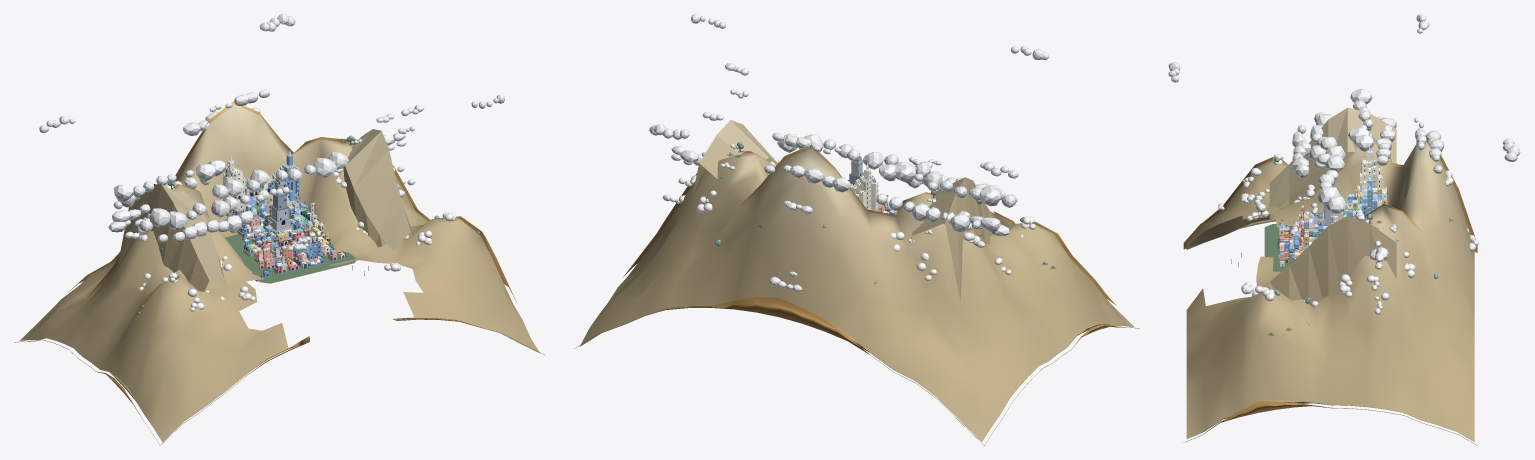
Rendered from candidate.glb.
The picture shows the model from 3 angles, left to right: view 1: azimuth 30°, elevation 25°; view 2: azimuth 150°, elevation 25°; view 3: azimuth 270°, elevation 25°; orthographic projection. The views are drawn at different scales.
Parts seen in each view (by area): view 1: citadel-oskar-grid-mountain-surface, highland-ravine-wall-east, highland-ravine-wall-west, backlit-highlight-citadel-oskar-grid-mountain-surface, town-terrace-0-level-0, highland-hero-cloud-blob-cap, highland-hero-cloud-blob-windward:3, highland-town-foundation-platform, town-terrace-0-level-2, town-terrace-0-level-1, town-terrace-0-level-3, highland-hero-cloud-blob-windward:0 (+1 smaller); view 2: citadel-oskar-grid-mountain-surface, backlit-highlight-citadel-oskar-grid-mountain-surface, highland-ravine-wall-west, highland-ravine-wall-east, highland-hero-cloud-blob-windward:0, highland-hero-cloud-blob-cap, highland-hero-cloud-blob-windward:1, highland-hero-cloud-blob-ridge:0:3, highland-hero-cloud-blob-windward:3; view 3: citadel-oskar-grid-mountain-surface, highland-ravine-wall-east, highland-ravine-wall-west, backlit-highlight-citadel-oskar-grid-mountain-surface, highland-hero-cloud-blob-cap, highland-hero-cloud-blob-windward:0, town-terrace-0-level-3, highland-hero-cloud-blob-windward:2, highland-town-foundation-platform, highland-hero-cloud-blob-windward:1, highland-hero-cloud-blob-windward:3, town-terrace-0-level-2 (+5 smaller).
Boxes of the visible parts, x1,y1,x2,y2 form: citadel-oskar-grid-mountain-surface: (20, 104, 539, 441); highland-ravine-wall-east: (343, 129, 415, 251); highland-ravine-wall-west: (117, 184, 227, 291); backlit-highlight-citadel-oskar-grid-mountain-surface: (14, 101, 545, 445); town-terrace-0-level-0: (226, 186, 345, 277); highland-hero-cloud-blob-cap: (212, 152, 348, 198); highland-hero-cloud-blob-windward:3: (139, 194, 250, 232); highland-town-foundation-platform: (225, 234, 356, 283); town-terrace-0-level-2: (225, 182, 324, 259); town-terrace-0-level-1: (223, 185, 336, 270); town-terrace-0-level-3: (226, 175, 324, 255); highland-hero-cloud-blob-windward:0: (114, 160, 225, 201); citadel-oskar-grid-mountain-surface: (579, 148, 1133, 441); backlit-highlight-citadel-oskar-grid-mountain-surface: (574, 144, 1139, 445); highland-ravine-wall-west: (911, 177, 994, 301); highland-ravine-wall-east: (692, 120, 777, 194); highland-hero-cloud-blob-windward:0: (879, 164, 1001, 206); highland-hero-cloud-blob-cap: (777, 133, 930, 180); highland-hero-cloud-blob-windward:1: (876, 193, 980, 231); highland-hero-cloud-blob-ridge:0:3: (764, 165, 851, 192); highland-hero-cloud-blob-windward:3: (907, 171, 1016, 207); citadel-oskar-grid-mountain-surface: (1186, 141, 1474, 441); highland-ravine-wall-east: (1269, 216, 1396, 306); highland-ravine-wall-west: (1269, 107, 1396, 218); backlit-highlight-citadel-oskar-grid-mountain-surface: (1183, 135, 1477, 445); highland-hero-cloud-blob-cap: (1317, 137, 1346, 213); highland-hero-cloud-blob-windward:0: (1348, 88, 1374, 151); town-terrace-0-level-3: (1292, 186, 1387, 241); highland-hero-cloud-blob-windward:2: (1292, 124, 1311, 177); highland-town-foundation-platform: (1264, 224, 1293, 271); highland-hero-cloud-blob-windward:1: (1374, 116, 1396, 165); highland-hero-cloud-blob-windward:3: (1309, 112, 1333, 168); town-terrace-0-level-2: (1292, 190, 1388, 252).
Bounding box in the file's own units: 185 × 113 × 144.
Materials: 117 (80 with a texture image).
